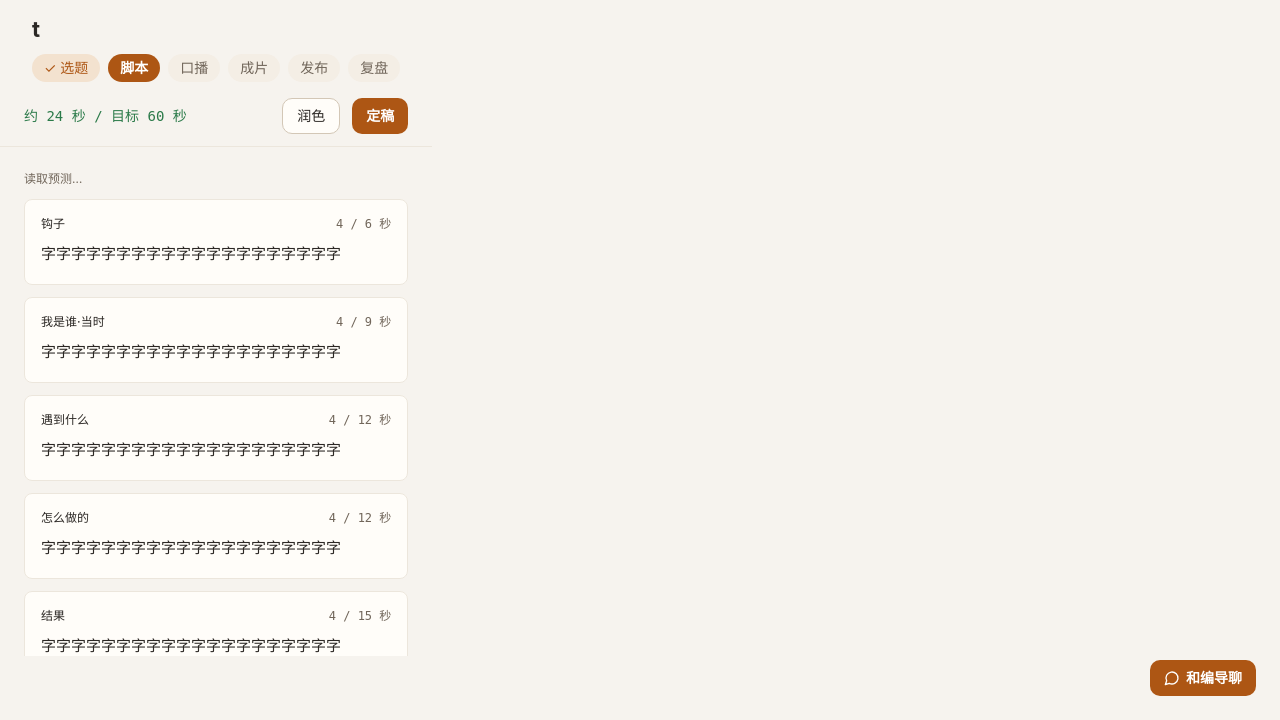
Test case: ProjectWorkspace › shows the save-to-Obsidian card right after finalizing
Click the button "定稿".
click(380, 116)  # box 352,98 -> 408,134
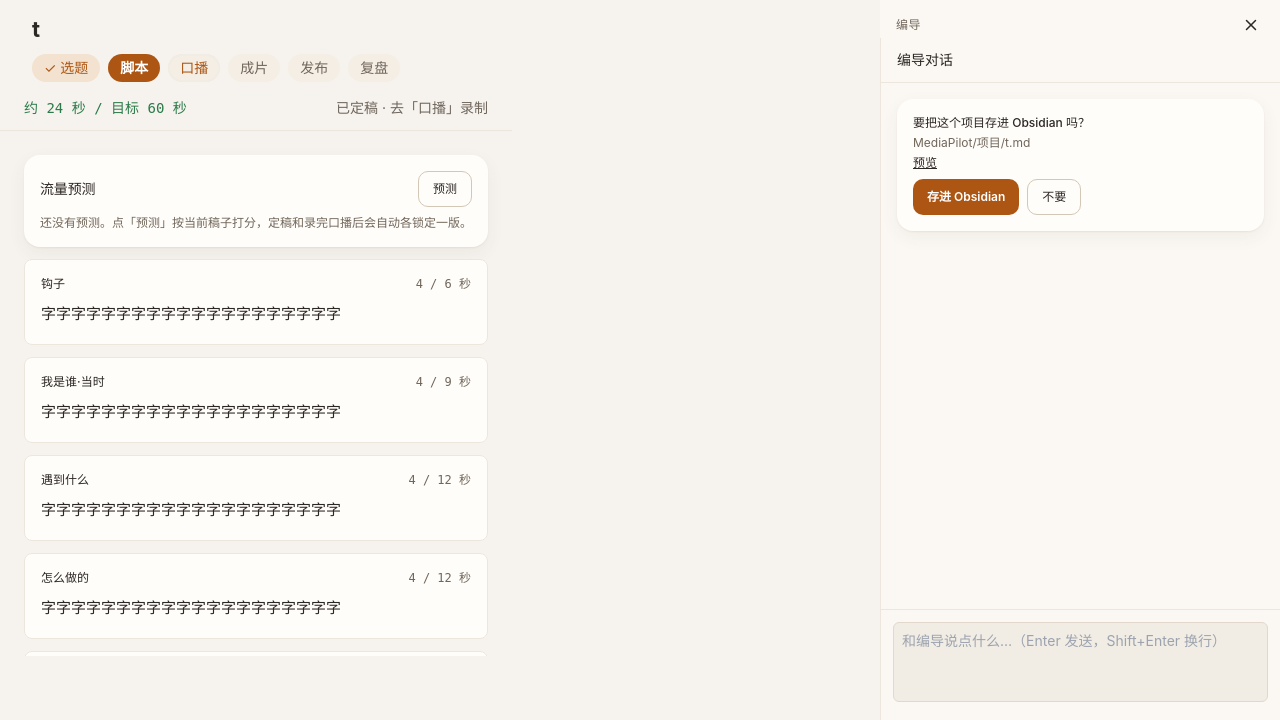
Now the button "存进 Obsidian" is shown, box 913,179 -> 1019,215
